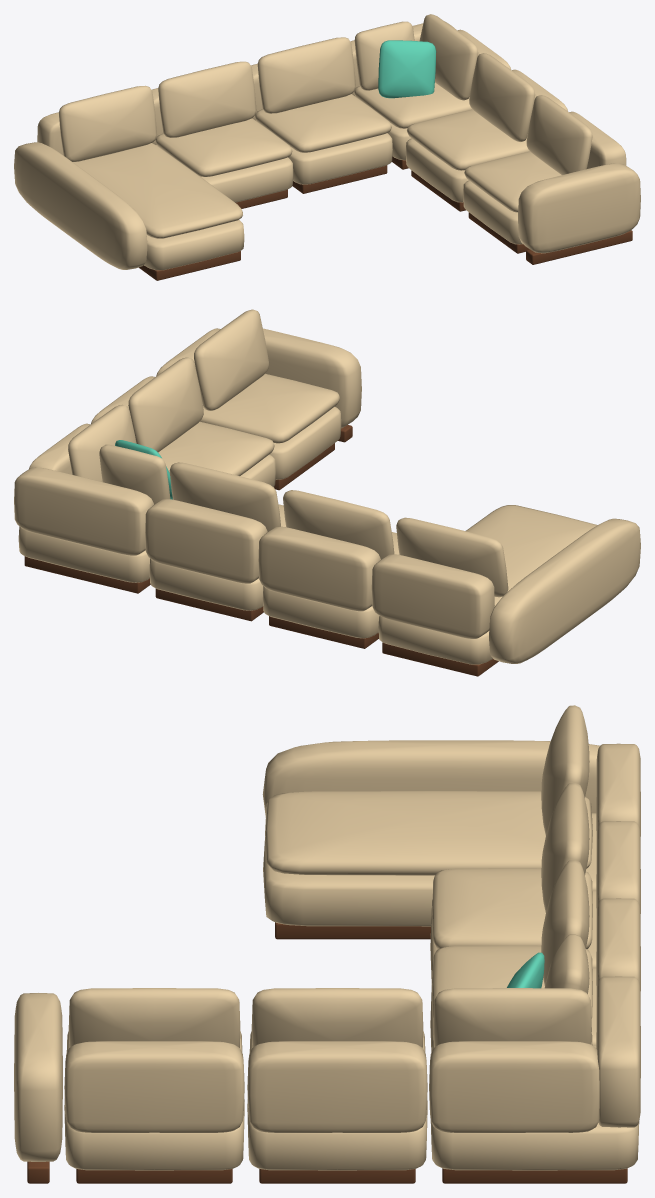
Rendered from sofa_canto_l_bege.glb.
3 views of the same model, one above another, from view 1: azimuth 30°, elevation 25°; view 2: azimuth 150°, elevation 25°; view 3: azimuth 270°, elevation 25° (orthographic). The views are drawn at different scales.
Visible parts, largest first — view 1: sofa_canto_l_bege; view 2: sofa_canto_l_bege; view 3: sofa_canto_l_bege.
Boxes of the visible parts, <box> form: sofa_canto_l_bege: <box>14,14,640,280</box>; sofa_canto_l_bege: <box>14,309,640,676</box>; sofa_canto_l_bege: <box>14,705,640,1183</box>.
Size of the model in its own units: 3.63 by 0.851 by 2.81.
1 material, 1 textured.
